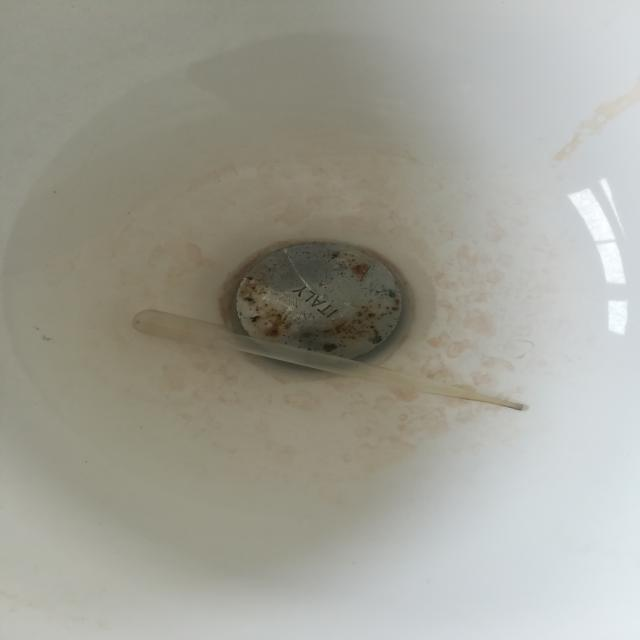Pipette: (102, 297, 545, 451)
